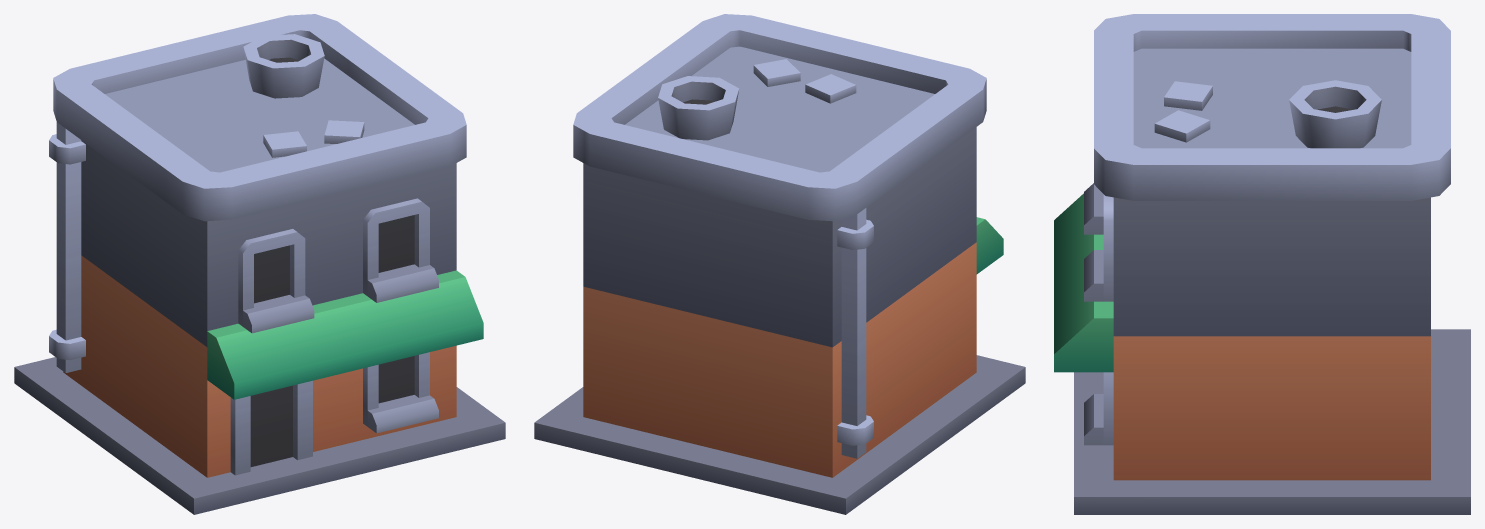
File: ke_building-small-d.glb
The picture shows the model from 3 angles, left to right: view 1: azimuth 30°, elevation 25°; view 2: azimuth 150°, elevation 25°; view 3: azimuth 270°, elevation 25°; orthographic projection. The views are drawn at different scales.
Visible parts, largest first — view 1: building-small-d; view 2: building-small-d; view 3: building-small-d.
Boxes of the visible parts, left/top/right/bottom form: building-small-d: left=14, top=14, right=505, bottom=514; building-small-d: left=534, top=14, right=1025, bottom=514; building-small-d: left=1054, top=14, right=1470, bottom=514.
Bounding box in the file's own units: 1 × 1 × 1.05.
Materials: 1 (1 with a texture image).
